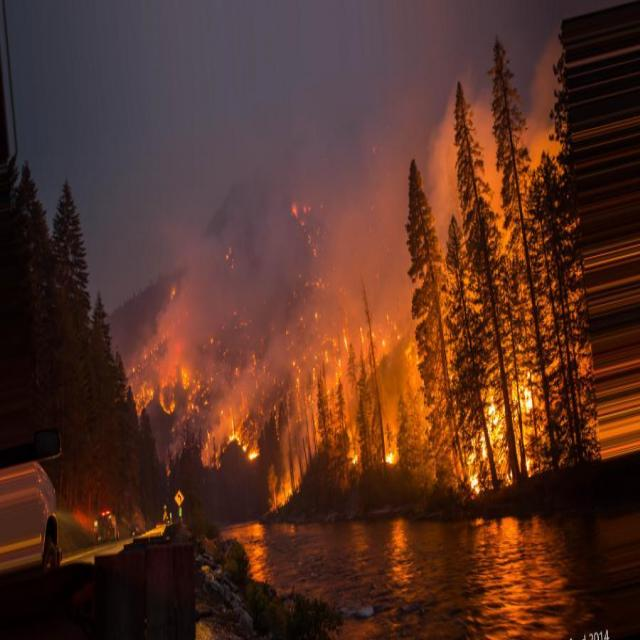fire: (131, 366, 412, 436), (457, 348, 564, 487), (203, 438, 306, 516), (350, 436, 404, 478)
smoke: (138, 105, 400, 359), (401, 43, 569, 226)
